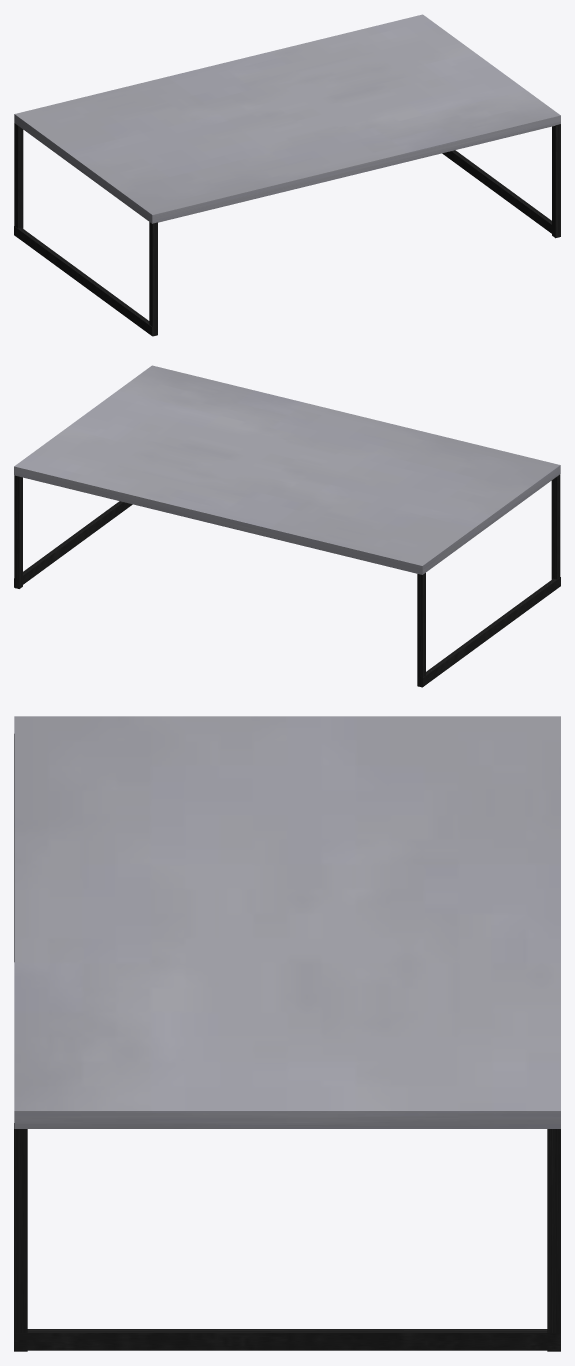
File: mesita.obj
3 views of the same model, one above another, from view 1: azimuth 30°, elevation 25°; view 2: azimuth 150°, elevation 25°; view 3: azimuth 270°, elevation 25° (orthographic). The views are drawn at different scales.
Visible parts, largest first — view 1: pCube3; view 2: pCube3; view 3: pCube3.
Part boxes in pixels (x1,y1,x2,y2): pCube3: [14, 14, 560, 336]; pCube3: [14, 365, 560, 687]; pCube3: [14, 716, 560, 1351].
Bounding box in the file's own units: 4.36 × 1.24 × 2.55.
Materials: 2 (2 with a texture image).
